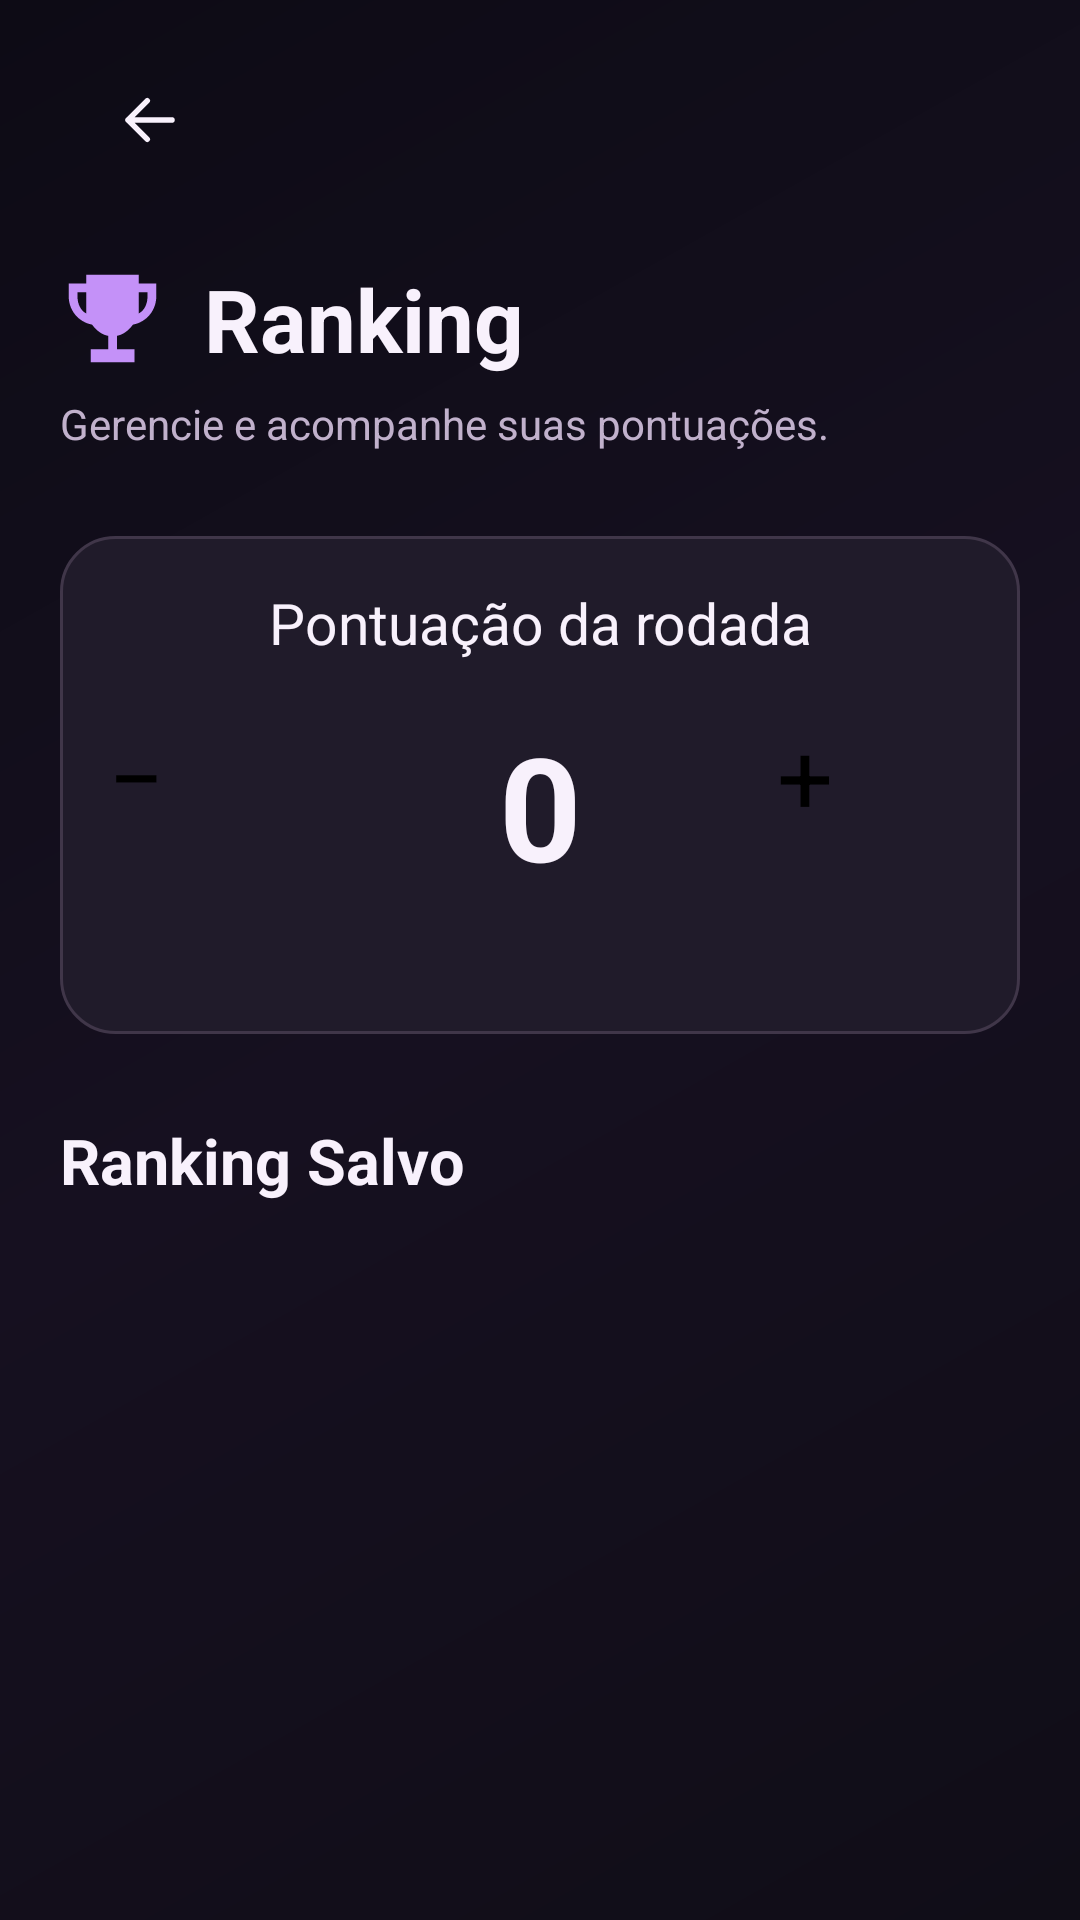

Where icons sit on this 1080px×1920px app screen, as (x1, y1, x2, y2):
trophy: (68, 274, 157, 363)
Voltar: (125, 97, 175, 143)
